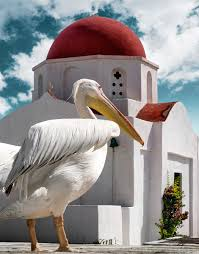pelican: (2, 78, 143, 253)
